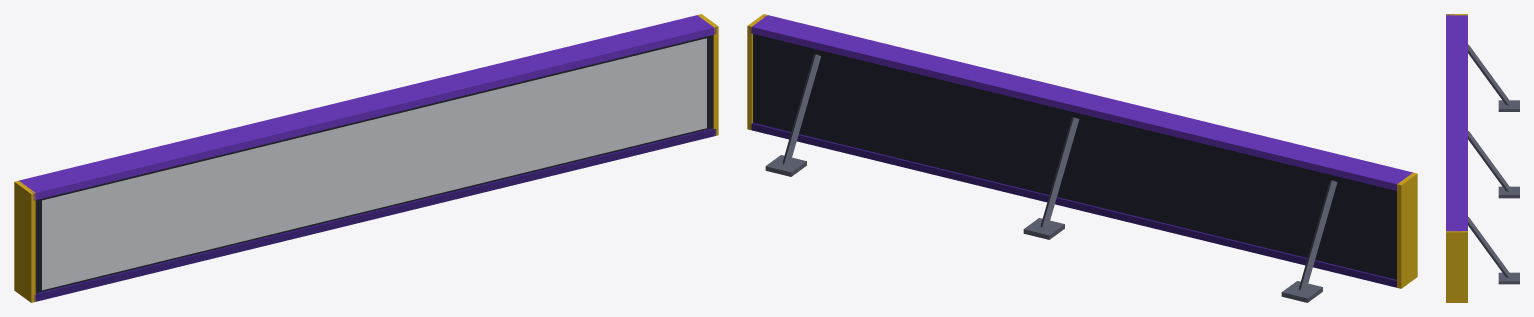
Rendered from led-board.glb.
3 views of the same model, side by side, from view 1: azimuth 30°, elevation 25°; view 2: azimuth 150°, elevation 25°; view 3: azimuth 270°, elevation 25° (orthographic). The views are drawn at different scales.
Visible parts, largest first — view 1: Face, led-board; view 2: led-board; view 3: led-board.
Part boxes in pixels (x1,y1,x2,y2): Face: (42,38,706,290); led-board: (14,14,718,302); led-board: (747,14,1417,302); led-board: (1446,14,1519,302).
Bounding box in the file's own units: 6.08 × 0.9393 × 0.87.
